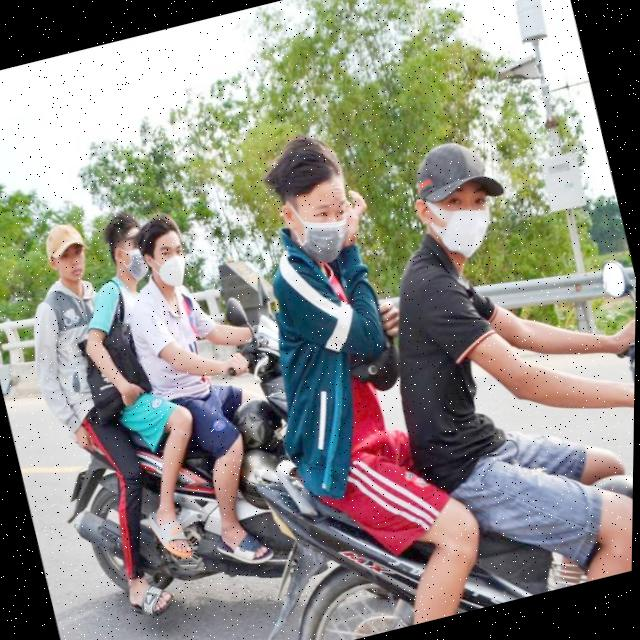motorcycle: (208, 311, 635, 640), (23, 354, 294, 640)
